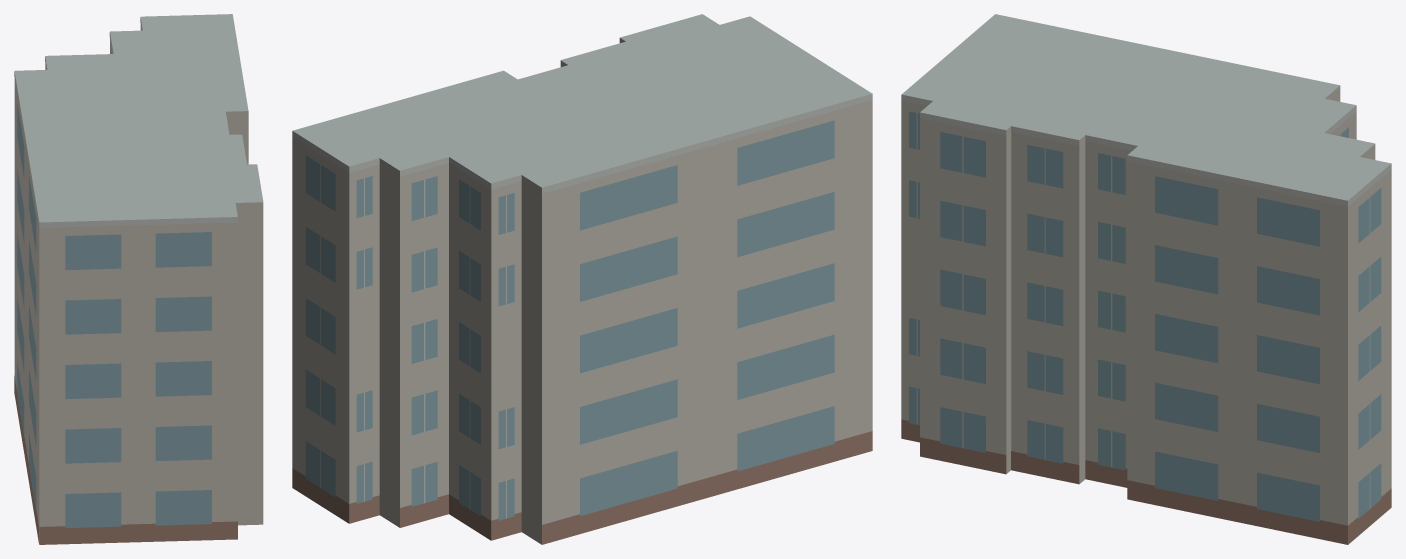
File: survey-upis-32657150.glb
3 views of the same model, side by side, from view 1: azimuth 30°, elevation 25°; view 2: azimuth 150°, elevation 25°; view 3: azimuth 270°, elevation 25° (orthographic). The views are drawn at different scales.
Visible parts, largest first — view 1: survey-upis-32657150.tmp; view 2: survey-upis-32657150.tmp; view 3: survey-upis-32657150.tmp.
Part boxes in pixels (bbox=[...]): survey-upis-32657150.tmp: bbox=[14, 14, 263, 544]; survey-upis-32657150.tmp: bbox=[292, 14, 872, 544]; survey-upis-32657150.tmp: bbox=[901, 14, 1391, 544].
Bounding box in the file's own units: 16.54 × 14.2 × 18.34.
